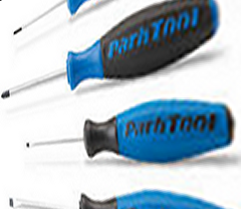Screwdriver: (1, 3, 224, 94), (18, 100, 237, 168)
